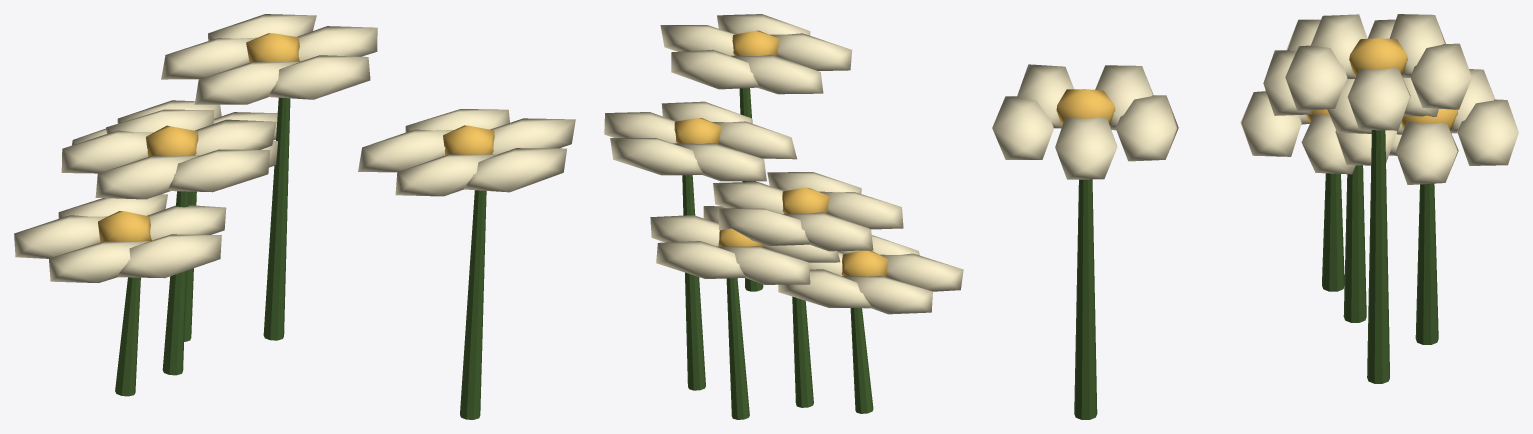
File: valley_daisy.glb
The picture shows the model from 3 angles, left to right: view 1: azimuth 30°, elevation 25°; view 2: azimuth 150°, elevation 25°; view 3: azimuth 270°, elevation 25°; orthographic projection. The views are drawn at different scales.
Visible parts, largest first — view 1: valley_daisy; view 2: valley_daisy; view 3: valley_daisy.
Boxes of the visible parts, x1=… form: valley_daisy: x1=14, y1=14, x2=575, y2=419; valley_daisy: x1=604, y1=14, x2=963, y2=419; valley_daisy: x1=992, y1=14, x2=1518, y2=419.
Bounding box in the file's own units: 0.8658 × 0.5807 × 0.812.
